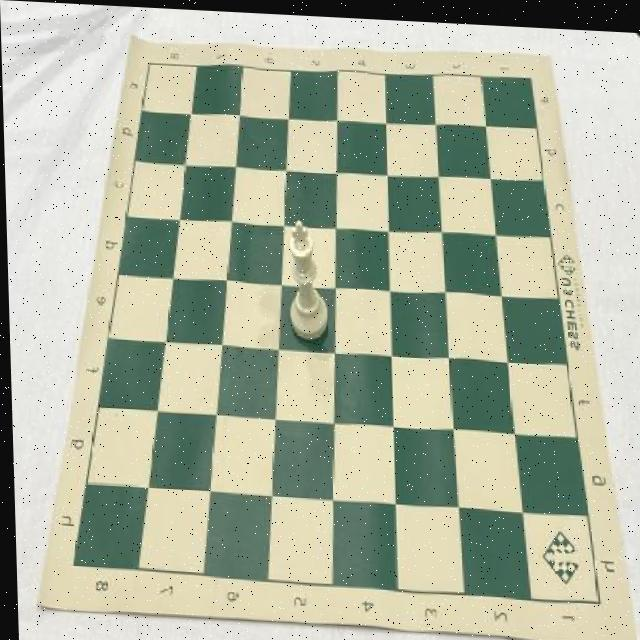white-bishop: (286, 216, 328, 339)
